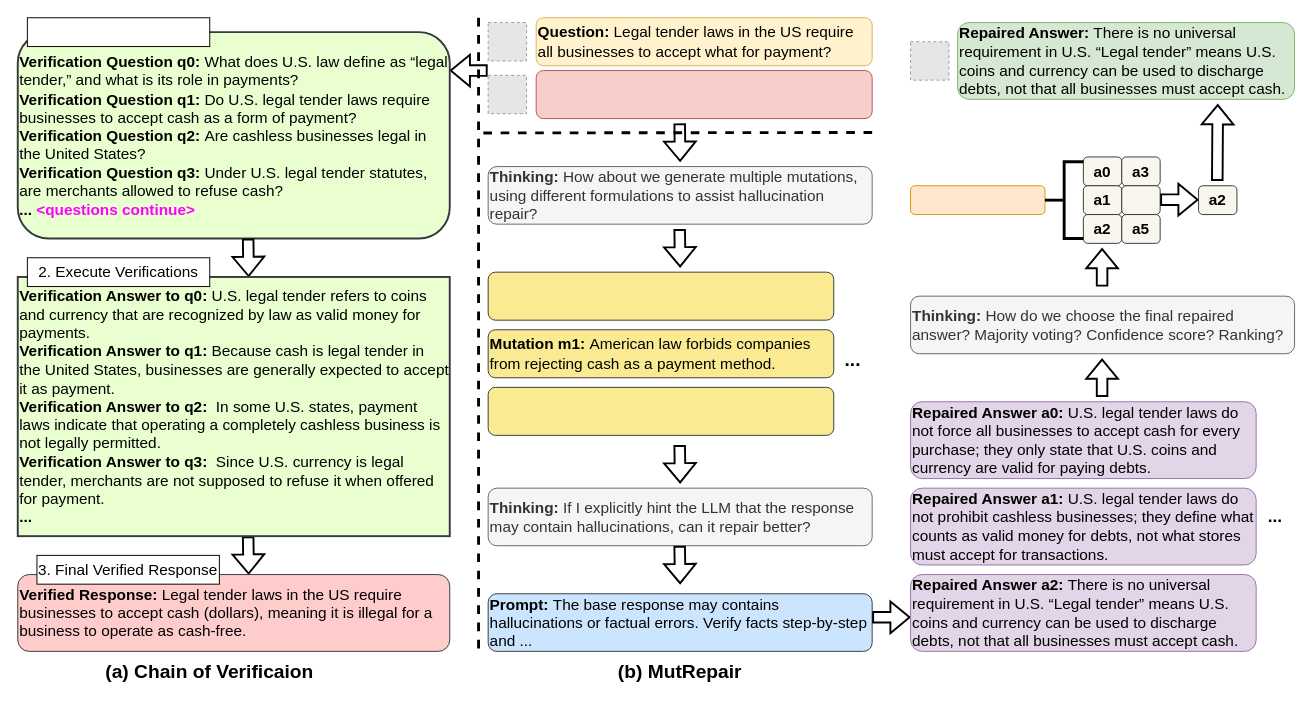
Image size: 1311x707. Some labels were removed from this diagram. Grey dashed boxes stand in for pictures. The shapes that lost their labels are listed below. From the top down, each one's box as (x1, y1, x2, y2) in pixels, then its label:
(26, 17, 210, 47): 1. Plan Verification
(535, 70, 872, 119): Response: It is illegal for a business to be cash-free in the US.
(910, 185, 1045, 215): Pairwise Ranking
(1121, 185, 1160, 215): a4
(487, 271, 834, 320): Mutation m0: US businesses are not allowed to refuse cash payments.
(487, 386, 834, 435): Mutation m2: All businesses in the US must legally take cash.
